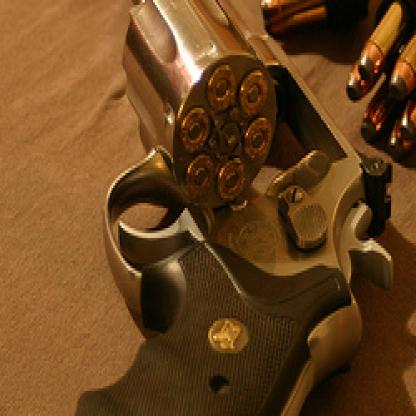gun: (38, 0, 402, 414)
